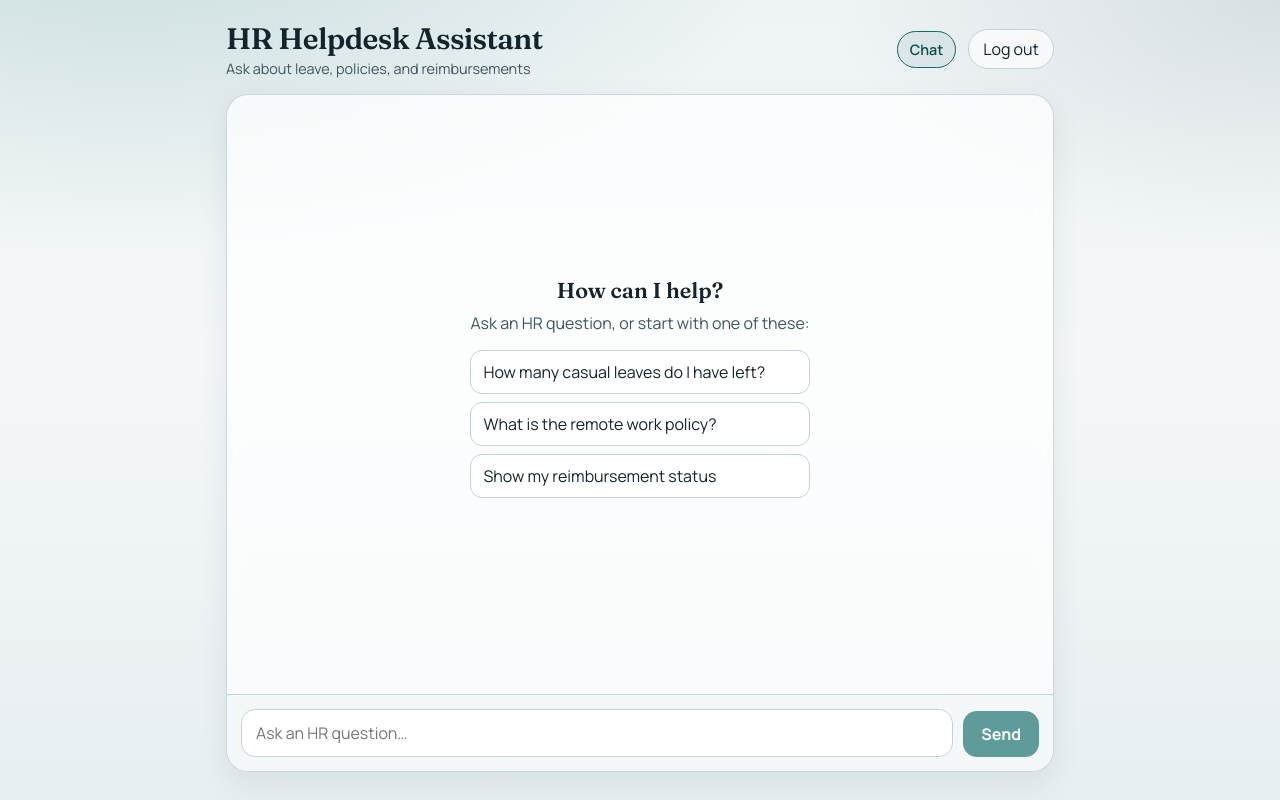
Test: AppRoutes auth redirects › stays on login after logout instead of looping with root
Click the button "Log out".
click(1011, 49)  # box [968,29,1054,69]
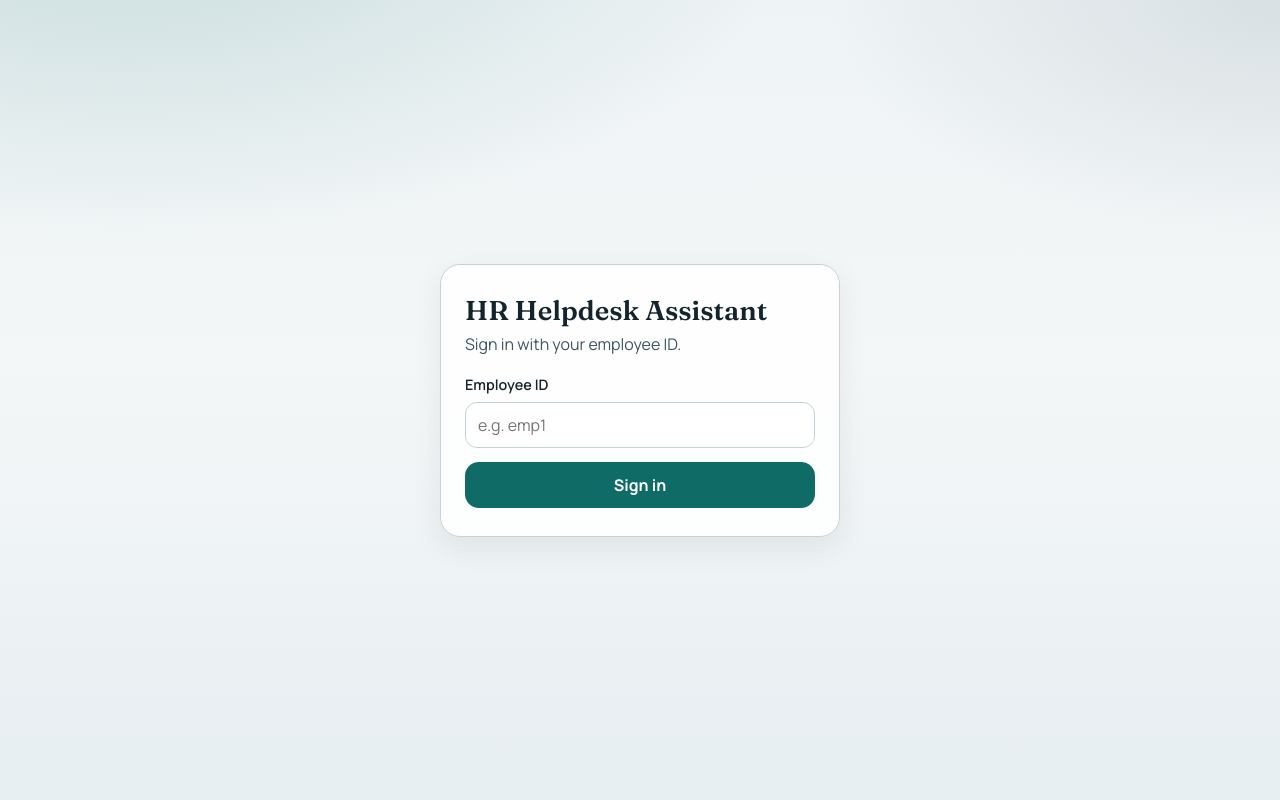
Result: the field labelled "Employee ID" is shown at [465,402,815,448]
Result: the button "Log out" is gone
